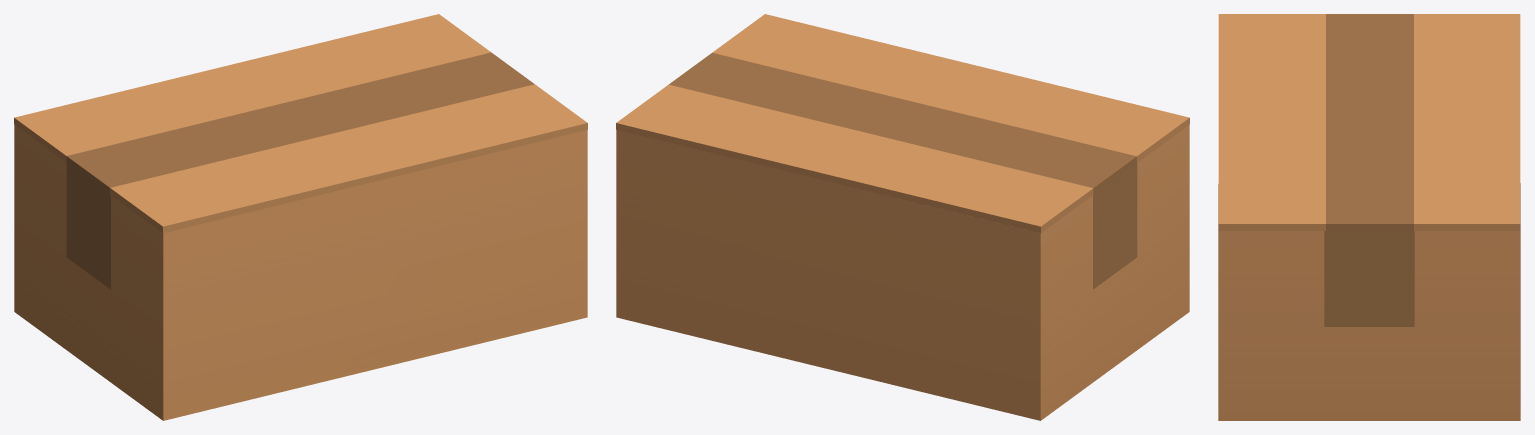
3 renders of one model, left to right at view 1: azimuth 30°, elevation 25°; view 2: azimuth 150°, elevation 25°; view 3: azimuth 270°, elevation 25°, orthographic.
Visible parts, largest first — view 1: B1_4x3x1_SH, Back_3, Front_3; view 2: B1_4x3x1_SH, Front_3, Back_3; view 3: B1_4x3x1_SH, Front_3, Back_3.
Part boxes in pixels (x1,y1,x2,y2): B1_4x3x1_SH: (14, 125, 587, 420); Back_3: (88, 68, 587, 233); Front_3: (14, 14, 512, 178); B1_4x3x1_SH: (616, 125, 1189, 420); Front_3: (616, 68, 1115, 233); Back_3: (691, 14, 1189, 178); B1_4x3x1_SH: (1218, 183, 1520, 420); Front_3: (1369, 14, 1520, 230); Back_3: (1218, 14, 1369, 230).
Bounding box in the file's own units: 0.8914 × 0.3897 × 0.5415.
